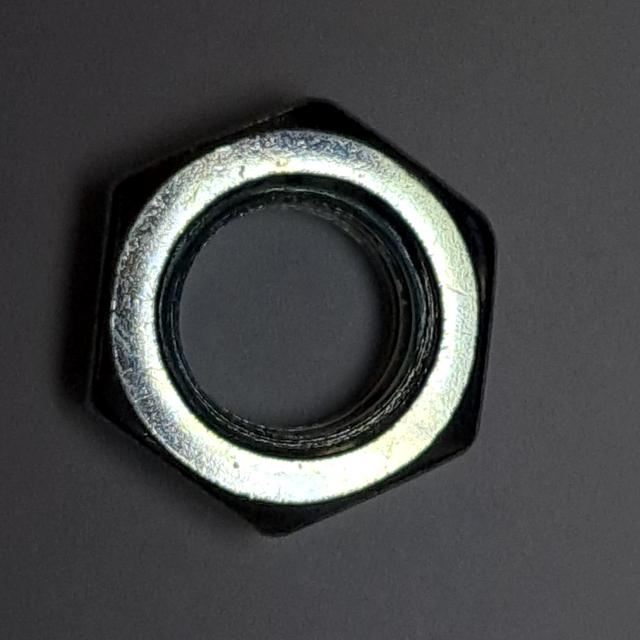Excellent: (74, 74, 516, 553)
